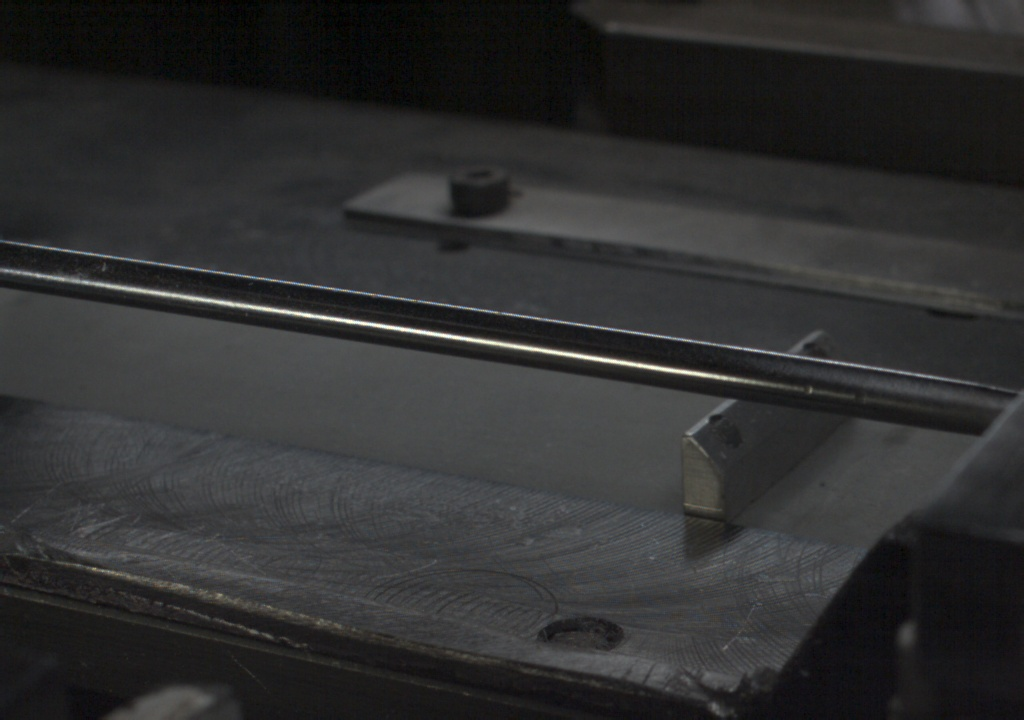empty: (267, 217, 836, 553)
